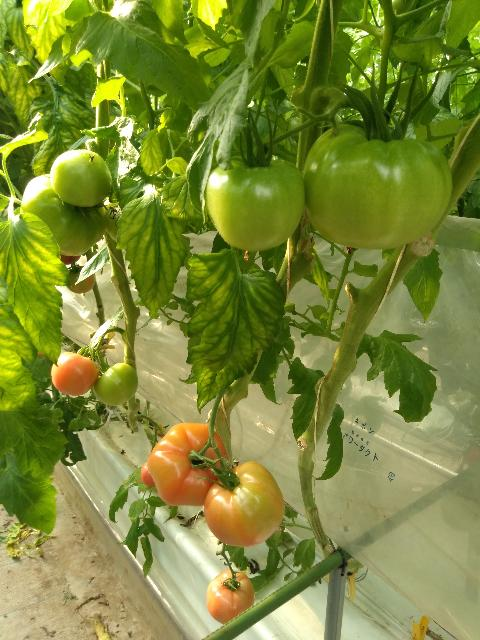b_fully_ripened: (51, 352, 99, 396)
b_green: (302, 124, 451, 250), (204, 155, 306, 251), (20, 174, 106, 256), (50, 150, 112, 208), (94, 363, 138, 406)
b_half_ripened: (204, 461, 285, 547), (147, 422, 229, 506), (206, 569, 254, 625), (67, 266, 96, 294)
